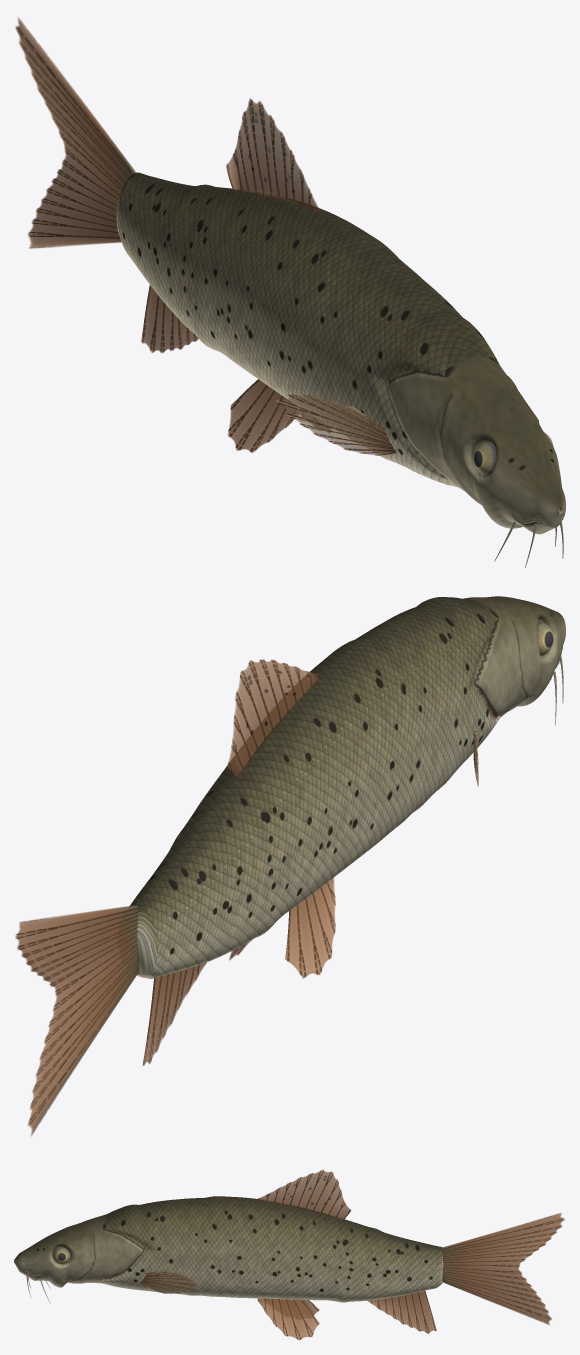
Rendered from brzanka.glb.
3 views of the same model, one above another, from view 1: azimuth 30°, elevation 25°; view 2: azimuth 150°, elevation 25°; view 3: azimuth 270°, elevation 25° (orthographic). The views are drawn at different scales.
Parts seen in each view (by area): view 1: Body, FinCaudal, FinDorsal1, FinPectoral, FinPelvic, FinAnal; view 2: Body, FinCaudal, FinDorsal1, FinPelvic, FinAnal; view 3: Body, FinCaudal, FinDorsal1, FinPelvic, FinAnal, FinPectoral, EyeRight.
Boxes of the visible parts, <box> form: Body: <box>116,172,565,534</box>; FinCaudal: <box>15,17,135,248</box>; FinDorsal1: <box>226,98,320,212</box>; FinPectoral: <box>276,393,395,455</box>; FinPelvic: <box>227,379,330,452</box>; FinAnal: <box>141,285,198,353</box>; Body: <box>129,596,565,978</box>; FinCaudal: <box>15,905,138,1135</box>; FinDorsal1: <box>227,659,320,779</box>; FinPelvic: <box>229,877,335,978</box>; FinAnal: <box>142,962,206,1065</box>; Body: <box>14,1196,443,1302</box>; FinCaudal: <box>442,1213,564,1324</box>; FinDorsal1: <box>257,1170,351,1219</box>; FinPelvic: <box>257,1298,319,1340</box>; FinAnal: <box>367,1290,436,1333</box>; FinPectoral: <box>140,1270,198,1293</box>; EyeRight: <box>53,1247,69,1264</box>.
Bounding box in the file's own units: 0.214 × 0.3312 × 1.
Materials: 9 (8 with a texture image).
